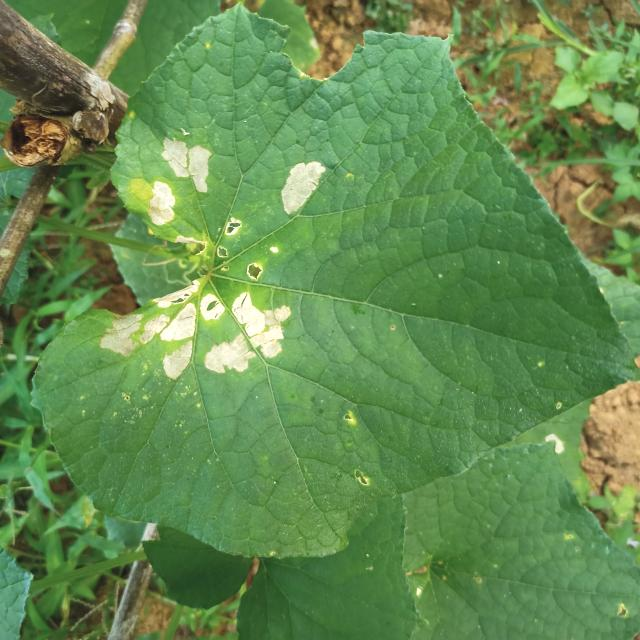disease_cucumber: (96, 278, 293, 382), (160, 134, 213, 198), (275, 158, 328, 218), (146, 180, 178, 226), (213, 216, 244, 262), (245, 260, 264, 281)
